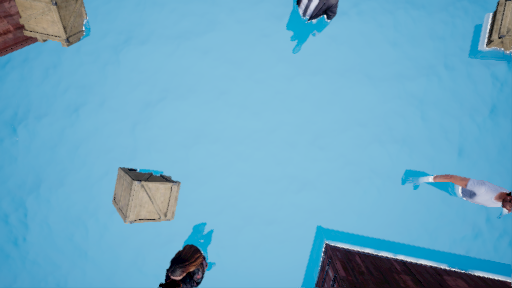person: (411, 162, 512, 232), (147, 225, 228, 287)
